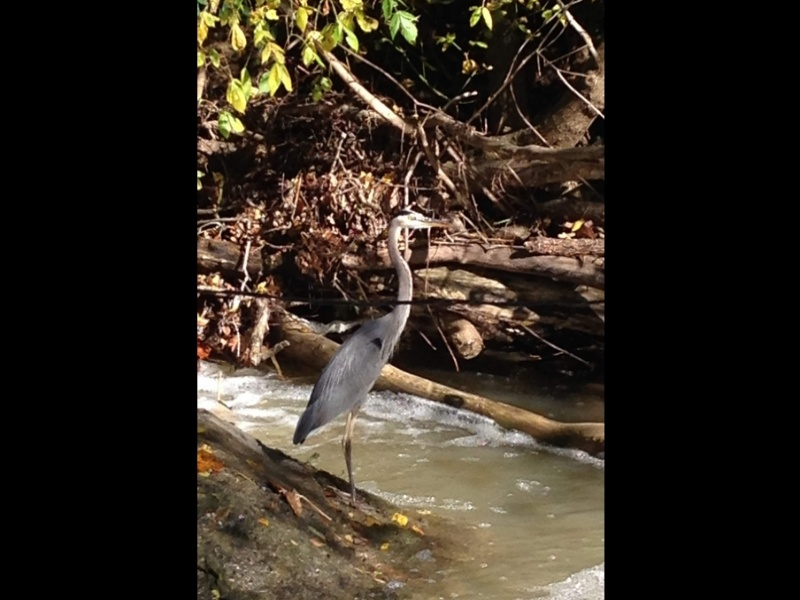heron: (293, 207, 456, 504)
